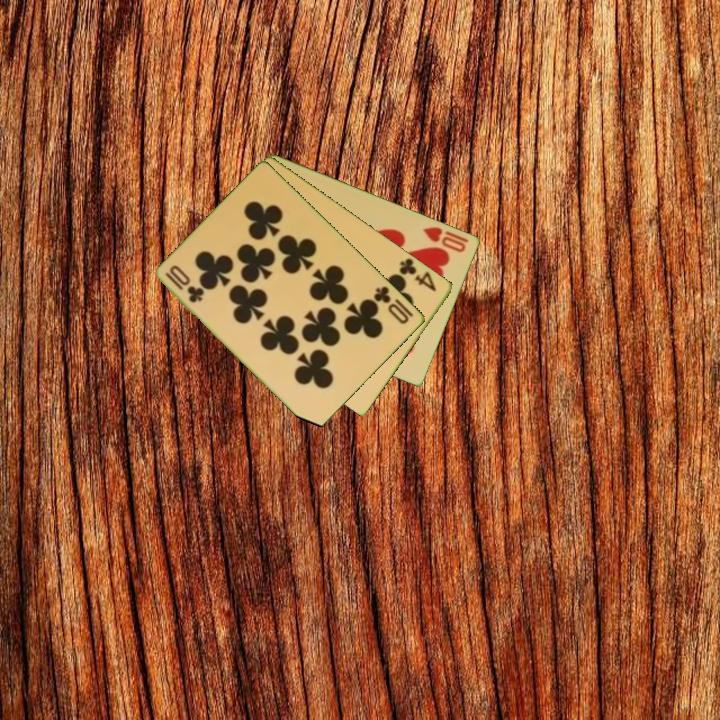10c: (162, 262, 207, 306), (371, 282, 412, 327)
10h: (420, 223, 469, 255)
4c: (394, 254, 440, 294)
